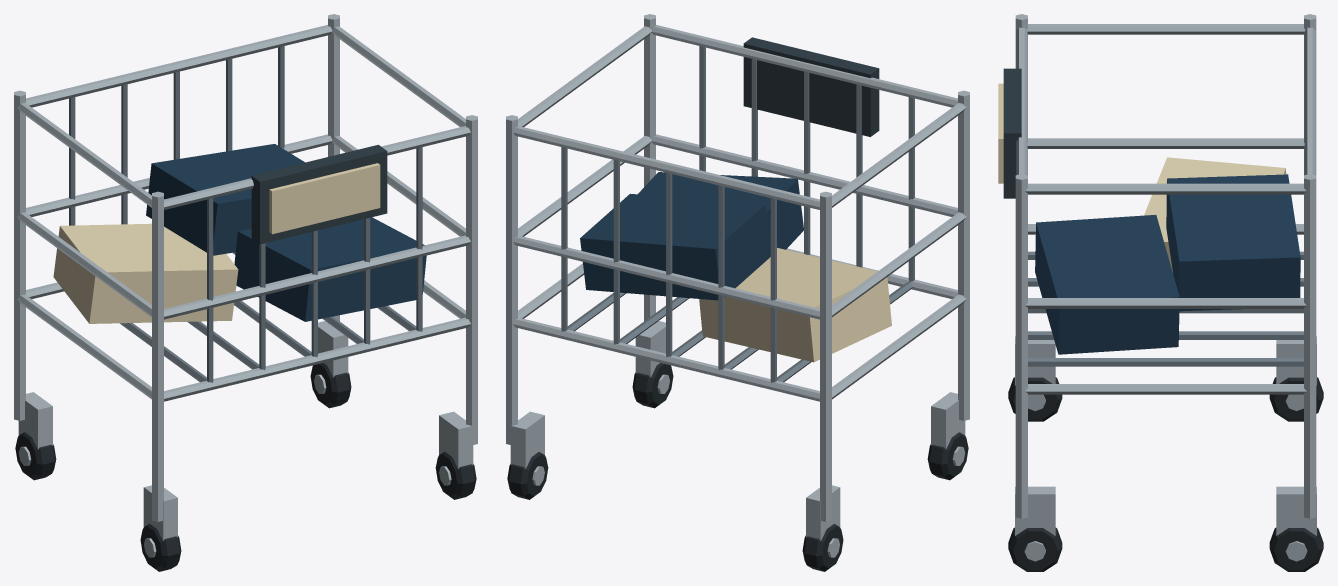
File: b10_sidewalk_clearance_wire_bin.glb
3 renders of one model, left to right at view 1: azimuth 30°, elevation 25°; view 2: azimuth 150°, elevation 25°; view 3: azimuth 270°, elevation 25°, orthographic. The views are drawn at different scales.
Parts seen in each view (by area): view 1: b10_sidewalk_clearance_wire_bin; view 2: b10_sidewalk_clearance_wire_bin; view 3: b10_sidewalk_clearance_wire_bin.
Part boxes in pixels (x1,y1,x2,y2): b10_sidewalk_clearance_wire_bin: [14, 14, 477, 571]; b10_sidewalk_clearance_wire_bin: [506, 14, 969, 571]; b10_sidewalk_clearance_wire_bin: [998, 14, 1323, 571].
Size of the model in its own units: 0.872 by 0.9721 by 0.722.
